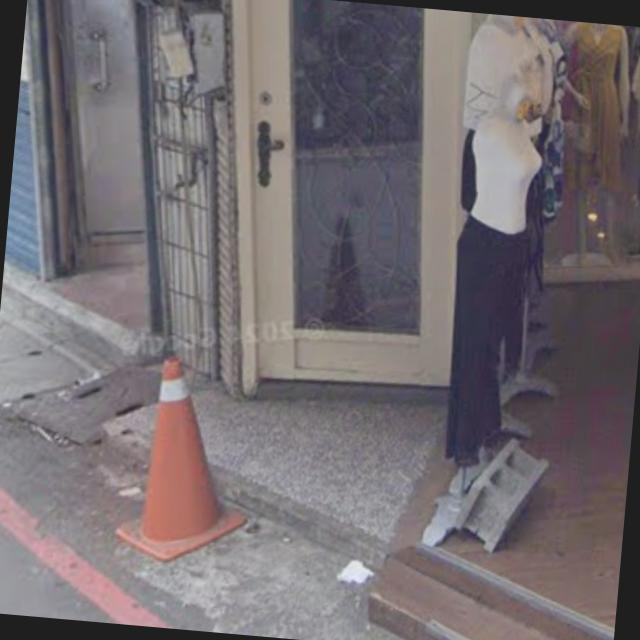cone: (114, 347, 258, 569)
